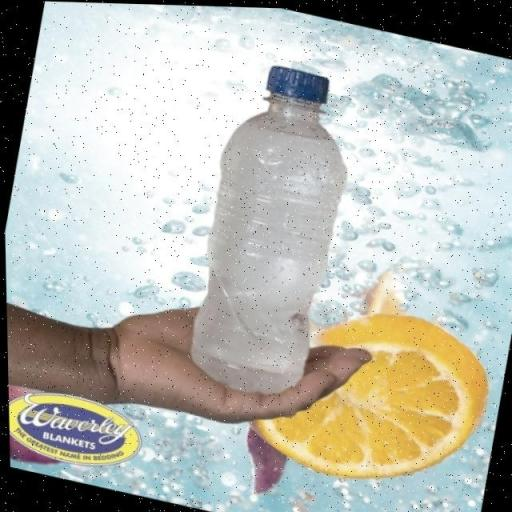plastic: (187, 64, 347, 395)
